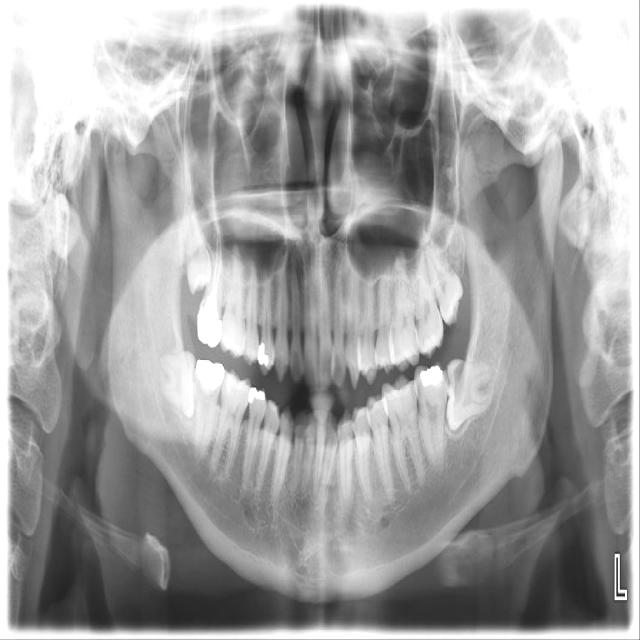Caries: (454, 363, 468, 402)
Crown: (197, 294, 223, 348), (195, 359, 225, 392)
Filling: (417, 365, 445, 387), (248, 388, 266, 406), (258, 343, 270, 369)
Root Canal Treatment: (210, 231, 219, 294)
impacted tooth: (448, 359, 500, 432), (182, 189, 217, 293), (152, 350, 194, 413)
